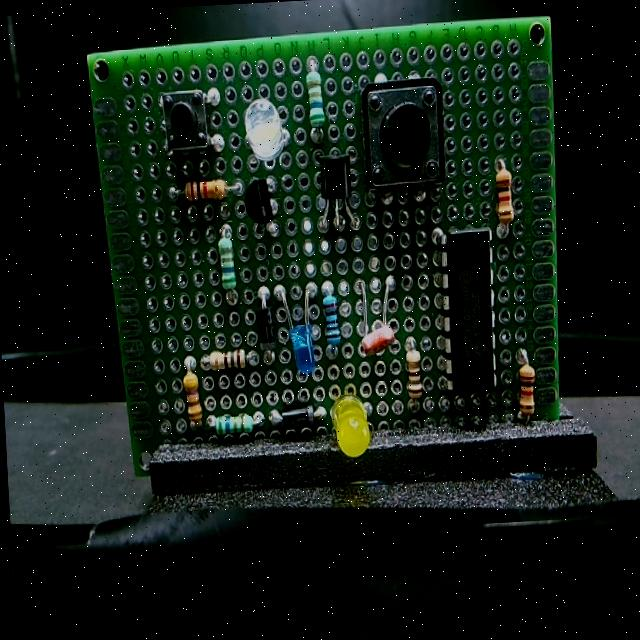IC: (429, 218, 504, 398)
cds: (359, 293, 396, 371)
diode: (252, 289, 281, 363), (272, 398, 322, 434)
led: (234, 90, 292, 166), (328, 386, 381, 462), (284, 282, 316, 379)
resistor: (298, 60, 335, 144), (510, 352, 542, 435), (212, 228, 246, 298), (172, 362, 204, 432), (491, 160, 520, 230), (180, 166, 234, 203), (318, 286, 348, 352), (404, 340, 429, 411), (216, 406, 260, 443), (204, 349, 254, 377)
switch: (352, 69, 452, 194), (150, 76, 218, 156)
transistor: (316, 158, 360, 234), (245, 173, 278, 230)
